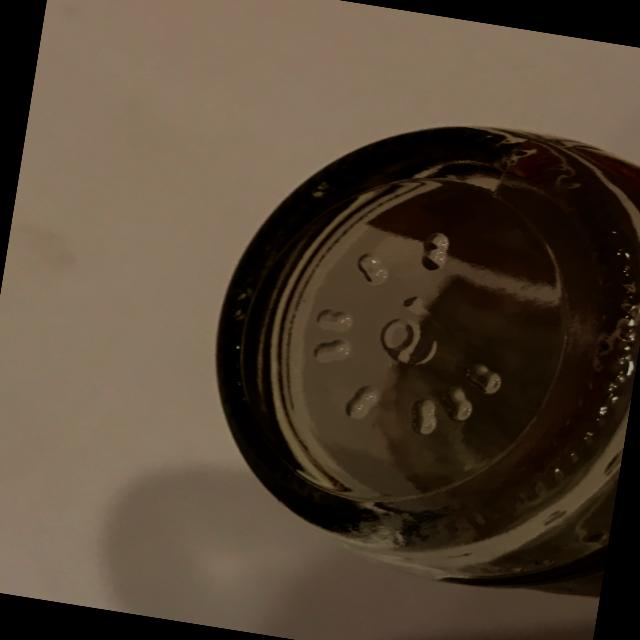Glass: (169, 72, 640, 611)
